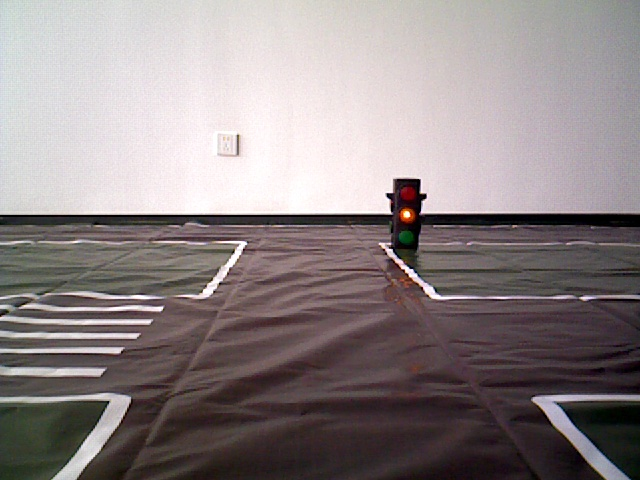yellow: (388, 176, 427, 251)
